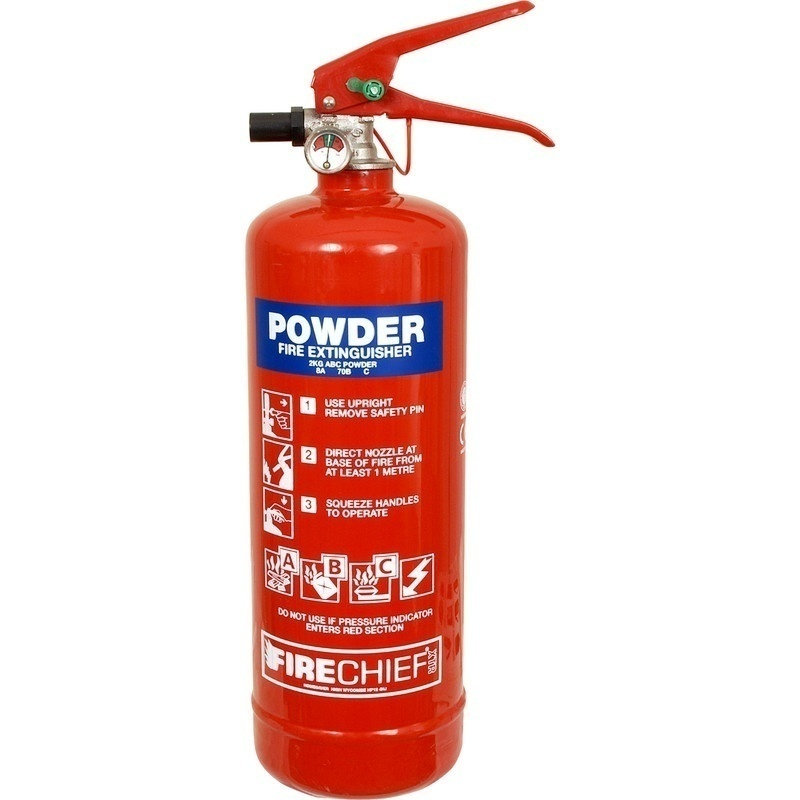fire_extinguisher: (244, 2, 556, 798)
